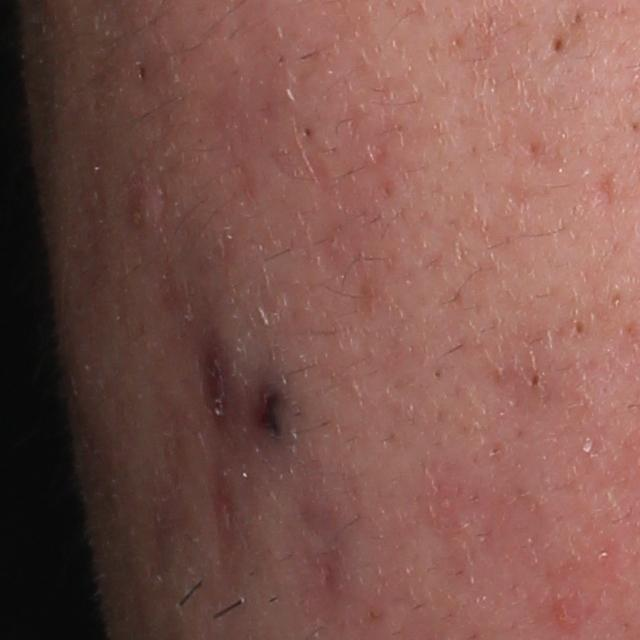atrophic_scar: (284, 493, 364, 596), (588, 167, 623, 214)
comedo: (571, 316, 592, 340), (548, 33, 569, 55), (527, 370, 545, 393)
